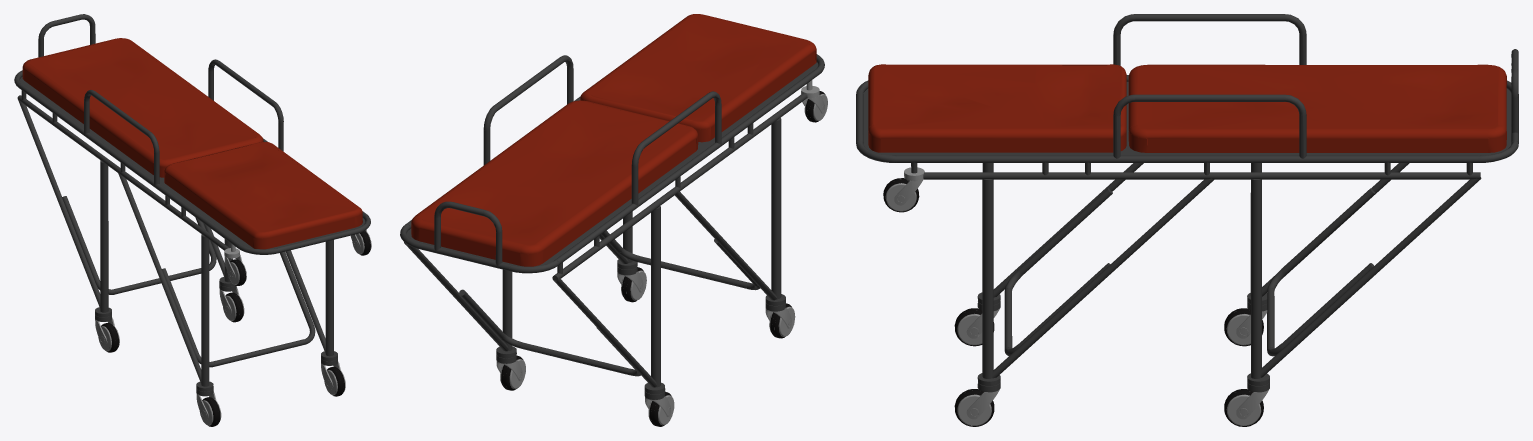
Rendered from Cot.obj.
The picture shows the model from 3 angles, left to right: view 1: azimuth 30°, elevation 25°; view 2: azimuth 150°, elevation 25°; view 3: azimuth 270°, elevation 25°; orthographic projection. The views are drawn at different scales.
Parts seen in each view (by area): view 1: Object_2; view 2: Object_2; view 3: Object_2.
Part boxes in pixels (left/top/right/bottom): Object_2: left=14, top=14, right=371, bottom=426; Object_2: left=400, top=14, right=827, bottom=426; Object_2: left=856, top=14, right=1518, bottom=426.
Size of the model in its own units: 0.6306 by 1.07 by 1.95.
